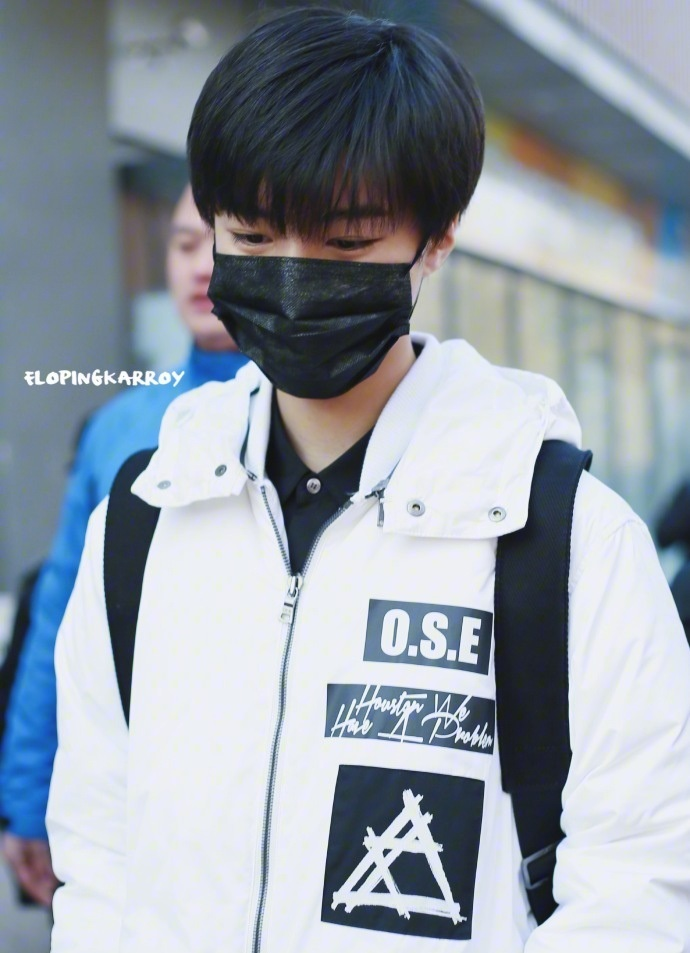face: (164, 184, 237, 337)
face_mask: (214, 125, 408, 404)
